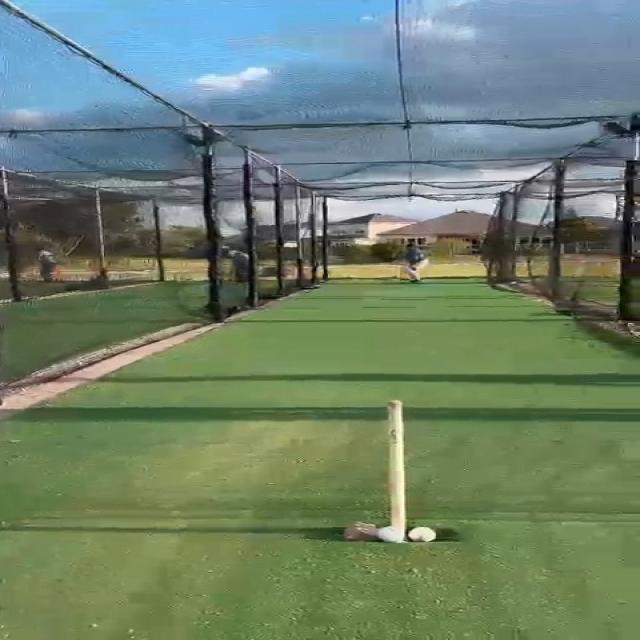batsman: (390, 243, 429, 284)
